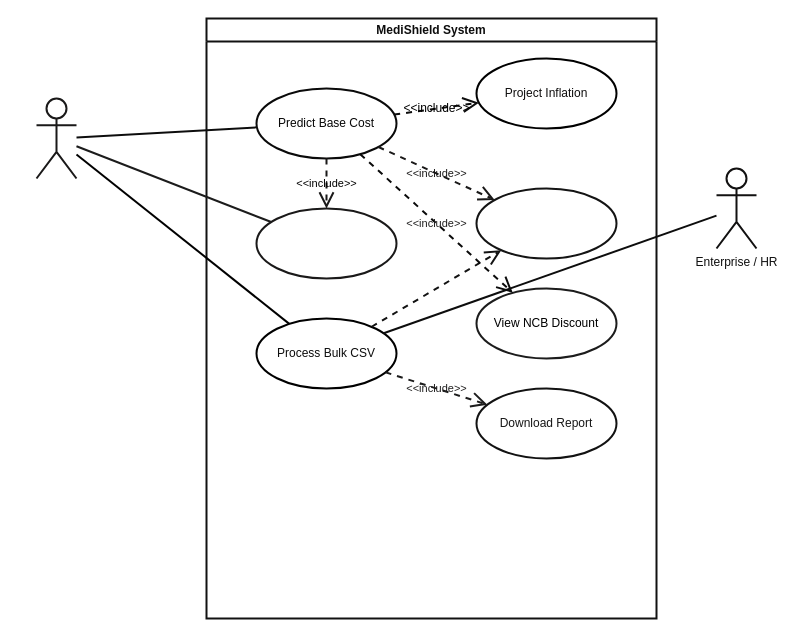
Image size: 795x636. Some labels were removed from this diagram. Here are the shapes that lost their labels. From the top down, the centre of each, then its label:
At pixel 56 138: "Individual User".
At pixel 326 243: "Underwriting Decision".
At pixel 546 223: "Generate Multi-Tier Plans".
